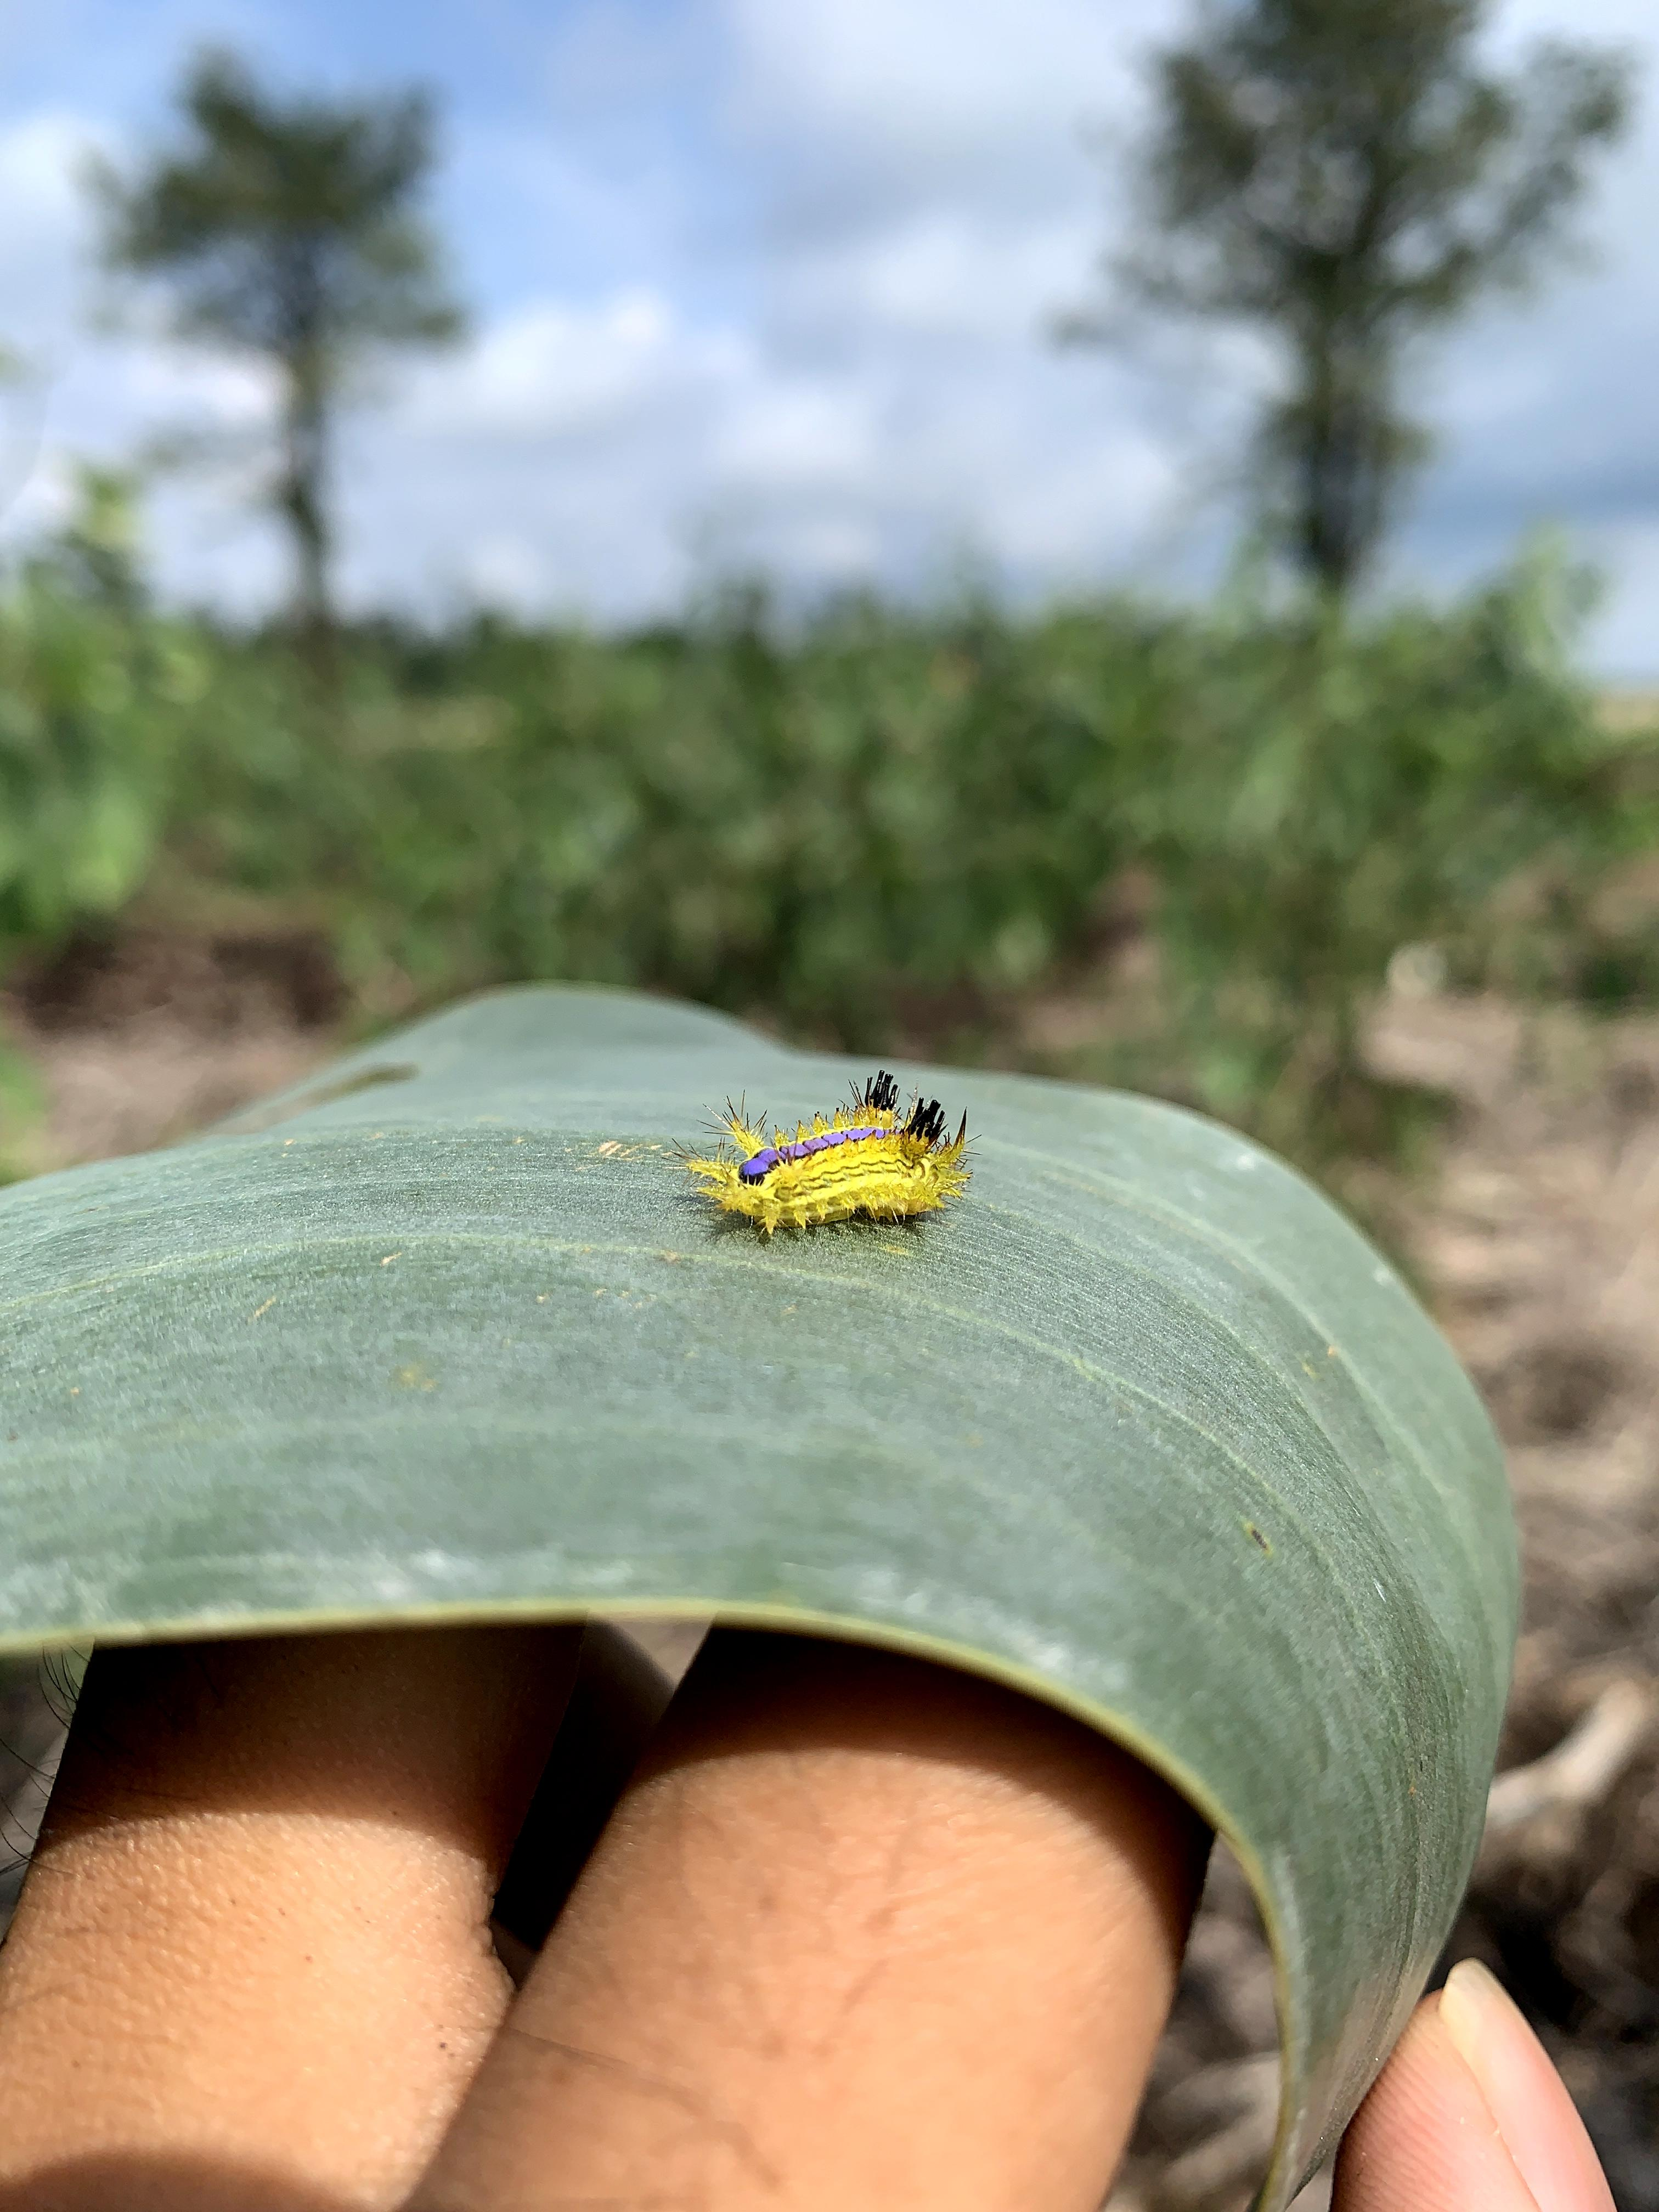Caterpillar: (681, 1049, 995, 1282)
